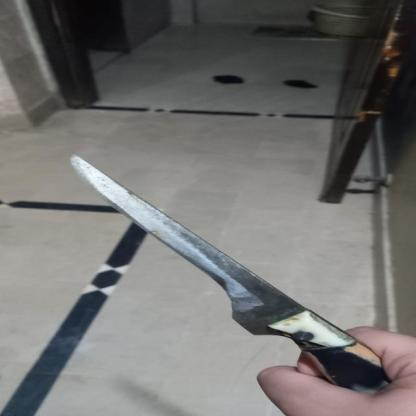Knife: (64, 151, 405, 409)
